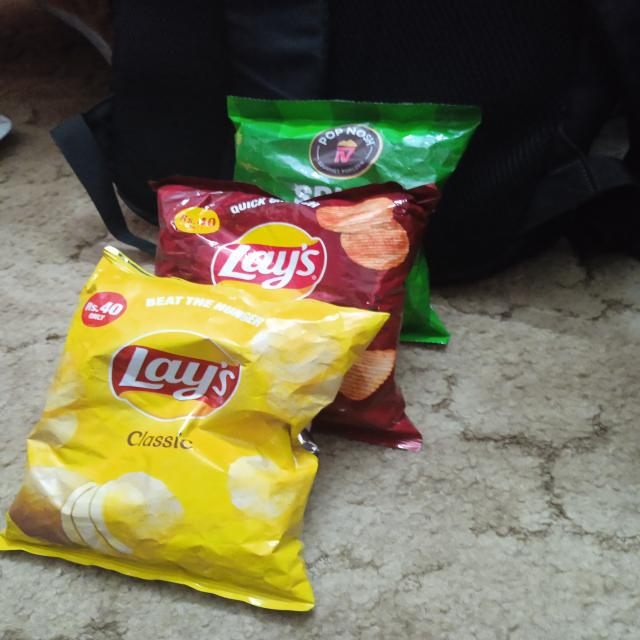Plastic: (30, 288, 362, 606), (156, 194, 422, 288), (237, 98, 472, 196)
